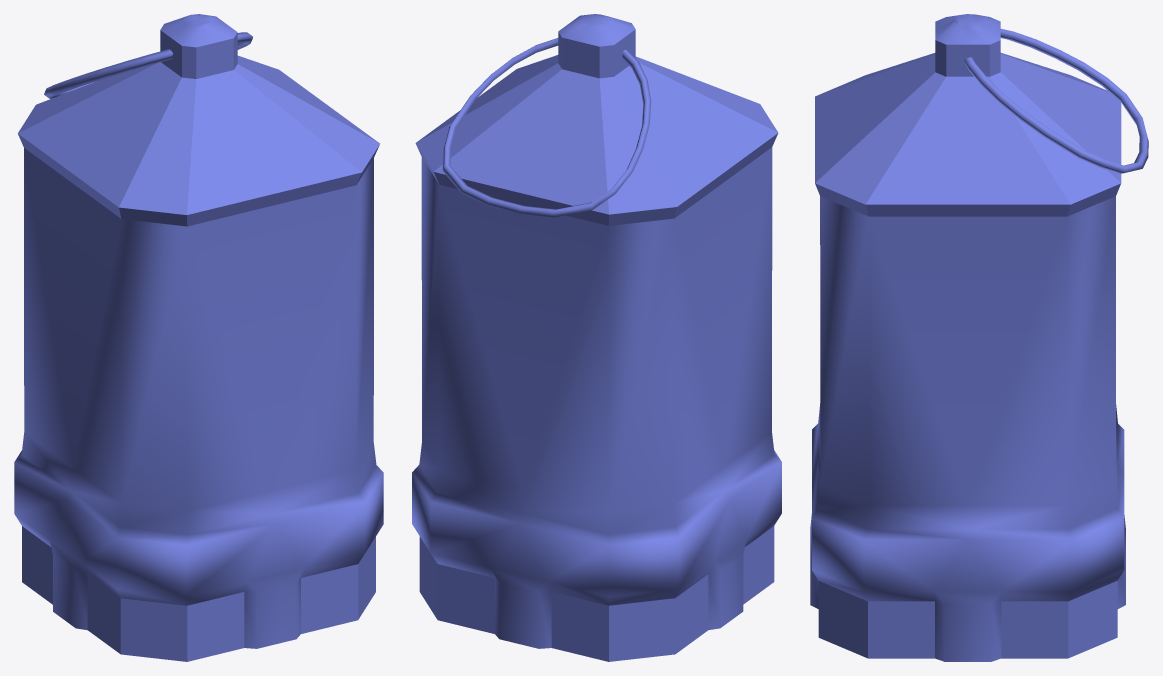
The model's file is Lantern-2.fbx.
3 views of the same model, side by side, from view 1: azimuth 30°, elevation 25°; view 2: azimuth 150°, elevation 25°; view 3: azimuth 270°, elevation 25° (orthographic).
Parts seen in each view (by area): view 1: LAMP_LOW.002; view 2: LAMP_LOW.002; view 3: LAMP_LOW.002.
Part boxes in pixels (box(x1,y1,x2,y2)): LAMP_LOW.002: box(14, 14, 383, 661); LAMP_LOW.002: box(412, 14, 781, 661); LAMP_LOW.002: box(810, 14, 1148, 661).
Size of the model in its own units: 25.87 by 51.97 by 27.74.
